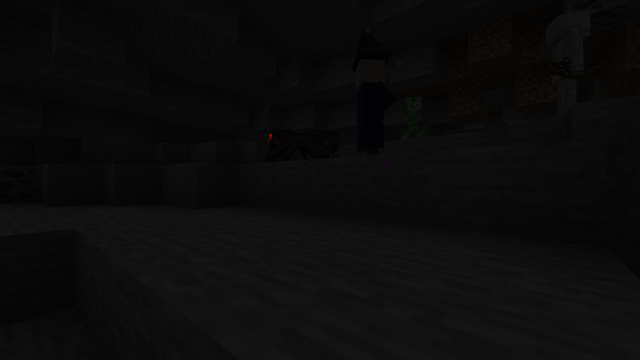araignees: (256, 118, 336, 158)
creepers: (401, 93, 423, 133)
sorcieres: (348, 50, 390, 138)
squelettes: (547, 6, 589, 117)
